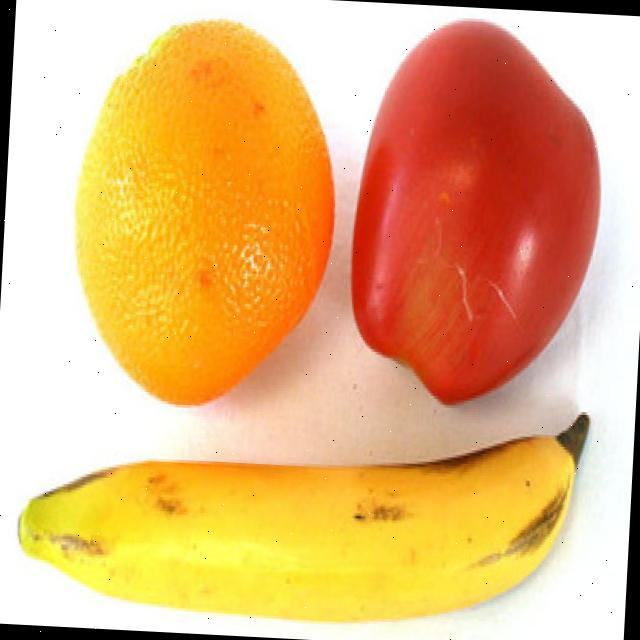Apel: (342, 10, 610, 412)
Jeruk: (63, 10, 345, 412)
Pisang: (12, 380, 590, 634)
